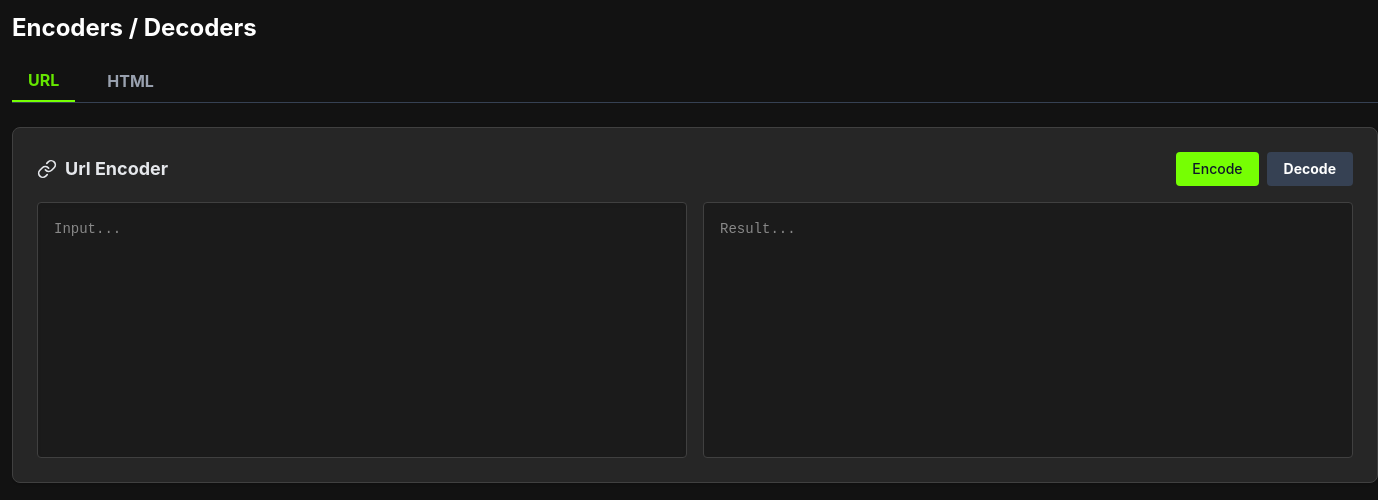
EncoderTool › handles HTML decoding
This screenshot has width=1378, height=500.
Note: Switch to HTML mode
Click the button "HTML": (131, 85) [91, 68, 170, 102]
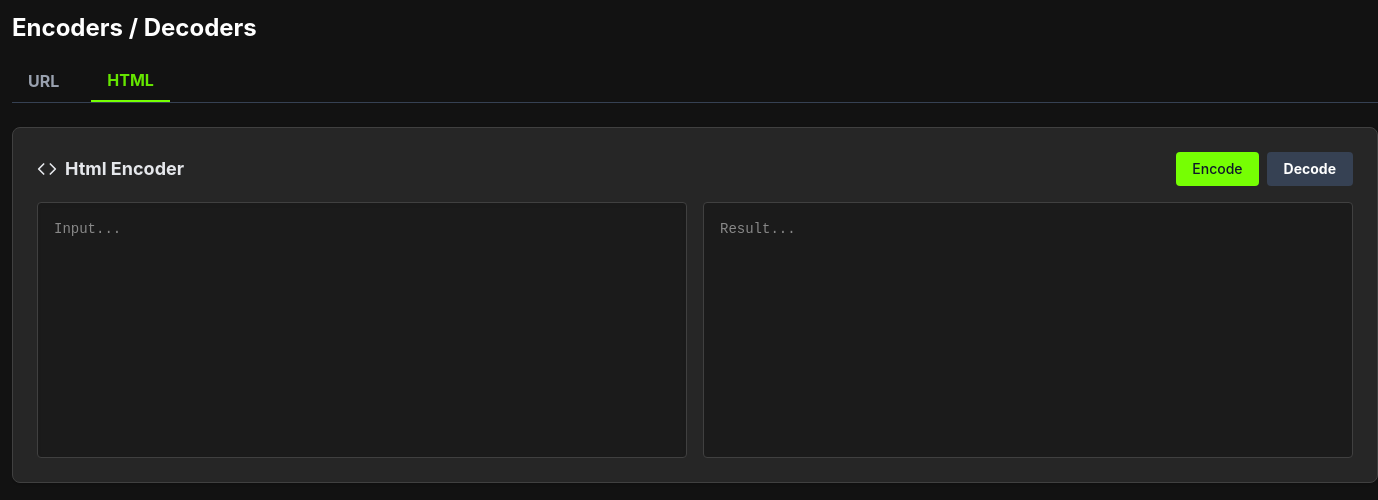
In the text box with placeholder "Input...": (362, 330) [37, 202, 687, 458], type "&lt;script&gt;"
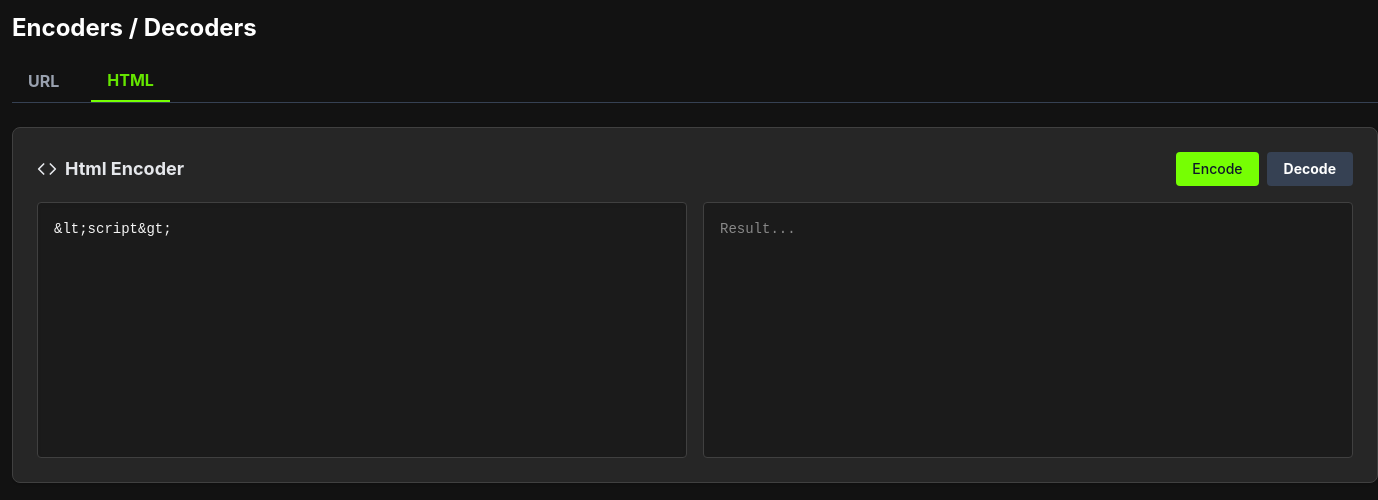
Click the button "Decode": (1310, 169) [1266, 152, 1353, 186]
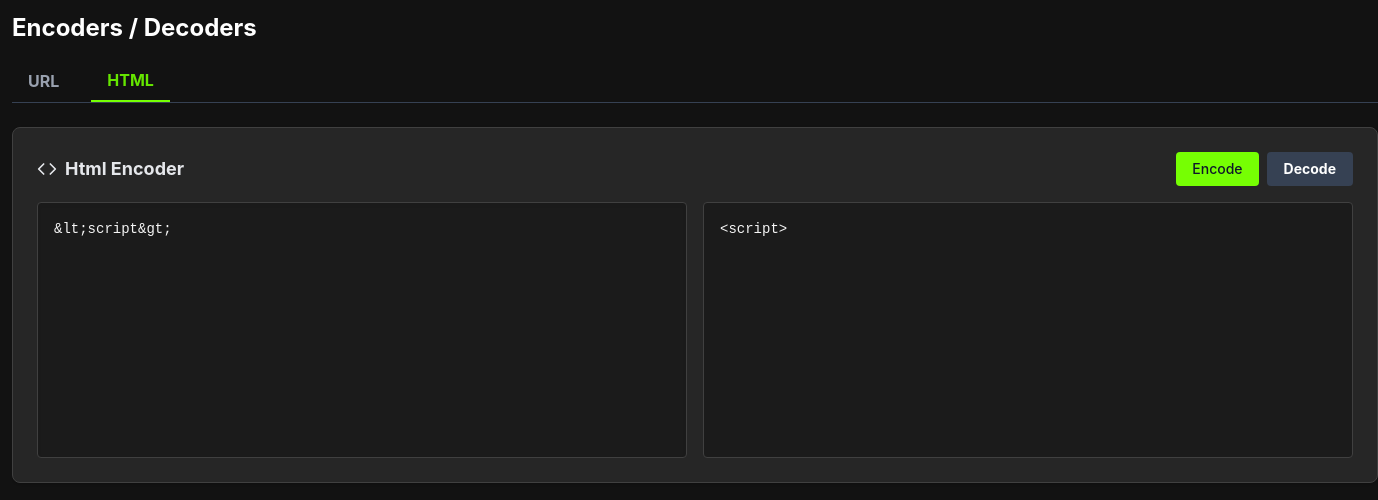
Expected: the 2nd text box showing "<script>" is shown, [703, 202, 1353, 458]
